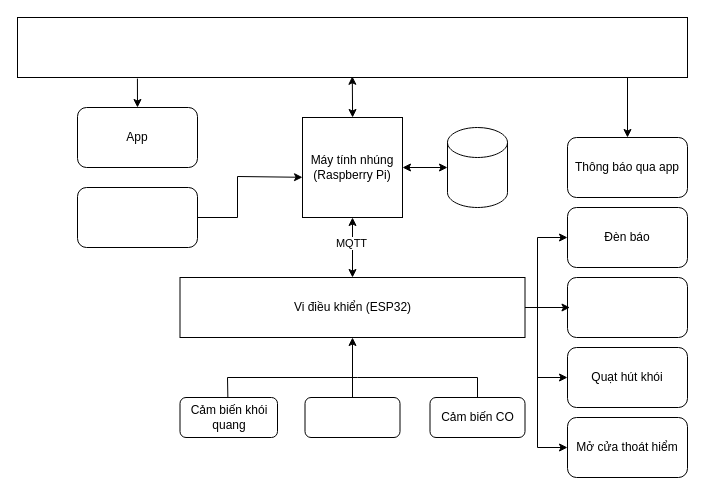
Some shapes in this 705 by 495 pixel diagram are drawn without their labels. Each missing label, with the box of its shape:
Chuông báo cháy: (566, 276, 688, 338)
Cloud: (16, 16, 688, 78)
Cơ sở dữ liệu: (446, 126, 508, 208)
cảm biến nhiệt độ: (304, 396, 400, 438)
Nhận diện khói (Camera): (76, 186, 198, 248)
